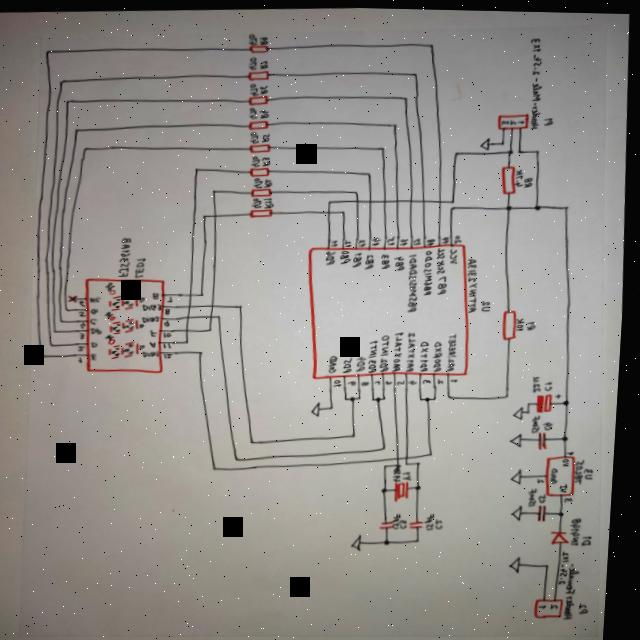capacitor: (539, 389, 567, 410), (541, 428, 555, 447), (542, 501, 554, 518), (385, 517, 401, 526), (415, 517, 430, 526)
crossover: (395, 195, 404, 201), (410, 195, 417, 200), (214, 211, 220, 216), (213, 301, 219, 306), (188, 313, 195, 317), (369, 197, 376, 201), (356, 196, 363, 200), (328, 207, 334, 211), (423, 196, 429, 200), (439, 196, 445, 200), (187, 326, 193, 330), (190, 302, 196, 306), (191, 291, 197, 295), (409, 452, 415, 456), (400, 453, 406, 457), (384, 196, 390, 200), (212, 312, 217, 316)
diode: (555, 526, 577, 541)
ground: (514, 552, 528, 570), (313, 399, 328, 415), (356, 531, 370, 548), (516, 501, 530, 517), (515, 465, 528, 481), (514, 430, 528, 444), (517, 403, 529, 417), (481, 135, 492, 148)
junction: (566, 431, 576, 439), (58, 77, 68, 85), (43, 47, 53, 54), (535, 200, 544, 207), (566, 396, 575, 403), (507, 201, 516, 208), (427, 39, 436, 46), (563, 506, 571, 513), (216, 464, 225, 470), (507, 390, 516, 396), (65, 97, 74, 103), (402, 92, 411, 98), (389, 536, 397, 542), (566, 202, 574, 208), (187, 337, 195, 343), (74, 126, 82, 132), (84, 145, 92, 151), (412, 69, 420, 75), (239, 454, 247, 460), (455, 148, 462, 154), (328, 196, 335, 202), (386, 485, 393, 491), (380, 143, 387, 149), (254, 437, 261, 443), (367, 168, 374, 174), (420, 481, 427, 487), (342, 206, 349, 212), (385, 443, 393, 448), (508, 146, 516, 151), (433, 448, 439, 454), (204, 211, 210, 217), (355, 430, 362, 435), (393, 120, 400, 125), (213, 187, 220, 192), (195, 165, 201, 170), (211, 325, 217, 330), (68, 306, 74, 311), (43, 353, 50, 357), (52, 341, 59, 345), (355, 188, 362, 192), (429, 394, 436, 398), (380, 394, 385, 399), (536, 146, 542, 150), (202, 348, 208, 352), (421, 535, 427, 539), (452, 204, 458, 208), (451, 197, 457, 201), (202, 290, 208, 294), (400, 460, 406, 464), (354, 394, 360, 398), (519, 146, 524, 150), (551, 560, 556, 564), (242, 302, 247, 306), (437, 393, 442, 397), (334, 403, 339, 407), (220, 313, 225, 317), (421, 458, 426, 462), (502, 138, 507, 142), (57, 328, 62, 332), (452, 391, 456, 395), (410, 458, 414, 462), (531, 398, 535, 402), (389, 462, 393, 465), (423, 394, 427, 397), (387, 394, 391, 397), (375, 395, 379, 398), (362, 394, 366, 397), (348, 394, 352, 397), (531, 407, 535, 410), (64, 318, 68, 321)
resistor: (504, 306, 522, 337), (501, 162, 519, 191), (252, 206, 276, 217), (250, 140, 273, 151), (248, 68, 271, 79), (251, 164, 273, 175), (250, 117, 270, 129), (252, 185, 275, 195), (249, 93, 269, 104), (249, 42, 270, 52)
terminal: (539, 594, 571, 615), (498, 110, 531, 127)
text: (527, 34, 548, 126), (568, 557, 589, 616), (407, 245, 426, 309), (467, 254, 484, 309), (437, 243, 453, 292), (118, 235, 137, 276), (424, 246, 440, 292), (395, 329, 410, 369), (448, 331, 464, 368), (409, 328, 422, 369), (435, 337, 449, 369), (383, 332, 395, 369), (564, 547, 577, 581), (575, 513, 589, 542), (422, 337, 435, 368), (371, 337, 383, 370), (136, 255, 151, 276), (579, 455, 591, 480), (450, 244, 464, 262), (534, 411, 546, 430), (332, 353, 344, 371), (536, 371, 548, 389), (514, 165, 526, 183), (533, 484, 544, 503), (382, 250, 394, 267), (429, 510, 441, 527), (354, 249, 366, 265), (359, 353, 371, 369), (366, 251, 378, 266), (145, 313, 165, 322), (347, 354, 358, 370), (397, 510, 408, 526), (396, 253, 408, 267), (342, 247, 354, 261), (328, 248, 339, 263), (398, 461, 407, 479), (555, 464, 565, 480), (146, 301, 166, 309), (249, 54, 259, 69), (146, 348, 164, 356), (249, 81, 260, 94), (251, 129, 262, 142), (519, 314, 529, 328), (249, 105, 260, 117), (252, 153, 263, 165), (265, 195, 277, 206), (588, 464, 599, 476), (248, 31, 258, 44), (255, 175, 266, 186), (407, 467, 418, 478), (484, 296, 494, 308), (253, 196, 265, 206), (587, 531, 599, 541), (585, 599, 595, 611), (373, 234, 384, 244), (547, 378, 558, 388), (529, 317, 540, 327), (525, 173, 535, 184), (564, 479, 575, 489), (546, 418, 558, 427), (94, 325, 107, 333), (260, 107, 270, 117), (263, 154, 273, 164), (456, 232, 467, 241), (567, 454, 576, 464), (263, 131, 272, 141), (266, 176, 275, 186), (405, 516, 414, 526), (544, 489, 552, 500), (390, 232, 398, 243), (441, 515, 449, 526), (360, 236, 369, 245), (260, 58, 269, 67), (155, 290, 165, 298), (337, 376, 347, 384), (428, 235, 438, 243), (166, 305, 176, 313), (545, 114, 555, 122), (259, 34, 269, 42), (260, 82, 268, 92), (166, 329, 177, 336), (569, 493, 580, 500), (169, 293, 178, 301), (402, 235, 411, 243), (93, 295, 105, 301), (94, 351, 103, 359), (351, 377, 362, 383), (444, 233, 452, 241), (154, 327, 162, 335), (83, 320, 91, 328), (415, 235, 424, 242), (81, 298, 90, 305), (427, 375, 437, 381), (168, 351, 178, 357), (412, 376, 422, 382), (167, 341, 177, 347), (81, 309, 91, 315), (153, 339, 161, 346), (333, 238, 341, 245), (94, 306, 102, 313), (94, 340, 103, 346), (544, 600, 554, 605), (83, 331, 90, 338), (455, 374, 463, 380), (557, 600, 565, 606), (401, 376, 409, 382), (542, 474, 550, 480), (511, 116, 519, 122), (503, 116, 511, 122), (348, 236, 354, 244), (168, 317, 174, 325), (94, 317, 102, 323), (82, 344, 90, 350), (365, 378, 374, 383), (442, 375, 449, 381), (378, 377, 385, 383), (82, 355, 88, 362), (389, 377, 397, 382), (571, 447, 580, 451), (519, 117, 526, 121)
